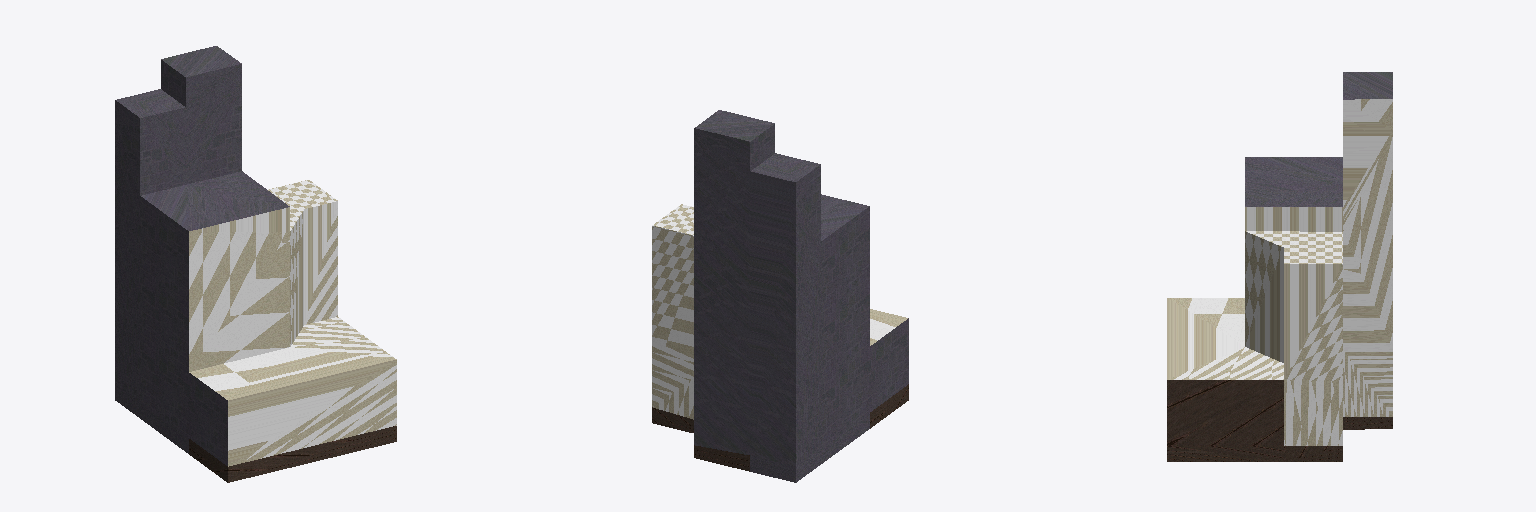
3 views of the same model, side by side, from view 1: azimuth 30°, elevation 25°; view 2: azimuth 150°, elevation 25°; view 3: azimuth 270°, elevation 25° (orthographic).
Parts seen in each view (by area): view 1: Plane.005_Plane.015; view 2: Plane.005_Plane.015; view 3: Plane.005_Plane.015.
Part boxes in pixels (left/top/right/bottom): Plane.005_Plane.015: left=115, top=46, right=396, bottom=482; Plane.005_Plane.015: left=652, top=110, right=908, bottom=482; Plane.005_Plane.015: left=1167, top=72, right=1392, bottom=461.
Size of the model in its own units: 2006 by 3739 by 2322.
Materials: 3 (3 with a texture image).